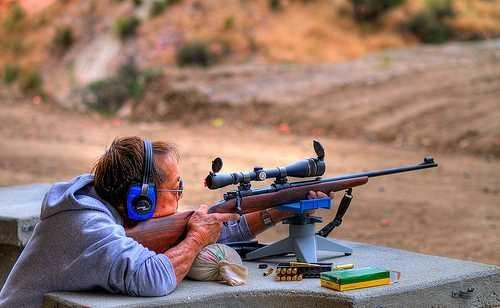heavyweapon: (115, 127, 452, 268)
